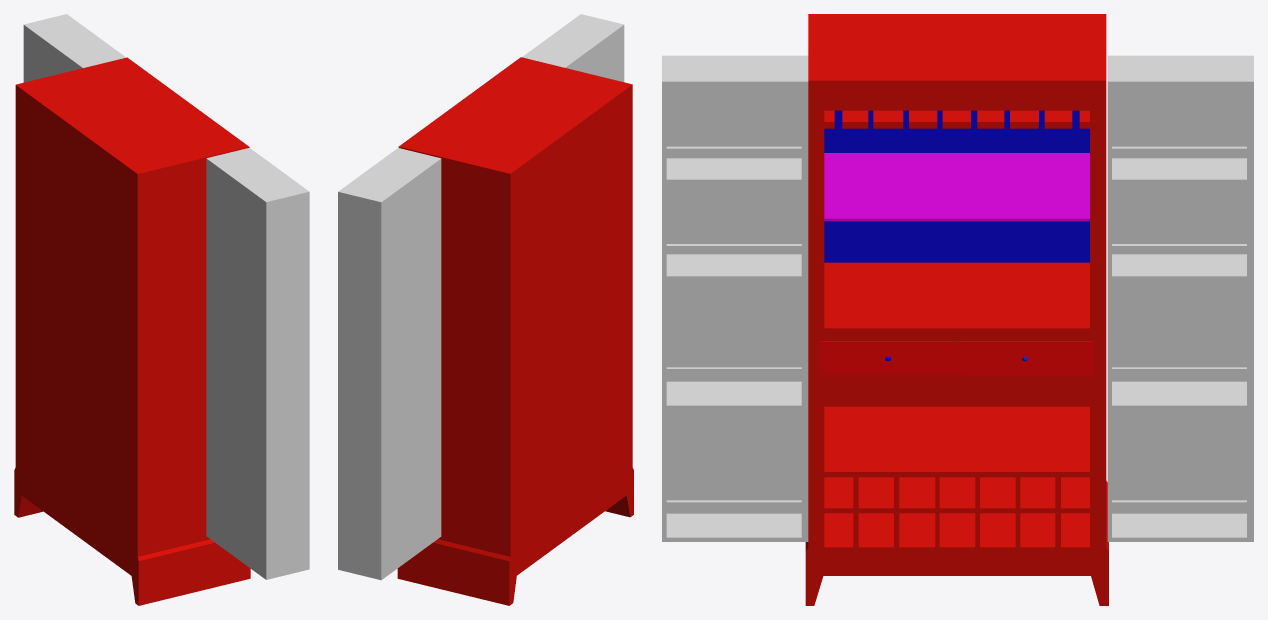
File: estante de livros.fbx
3 views of the same model, side by side, from view 1: azimuth 30°, elevation 25°; view 2: azimuth 150°, elevation 25°; view 3: azimuth 270°, elevation 25° (orthographic). The views are drawn at different scales.
Visible parts, largest first — view 1: Cube, Cube.003; view 2: Cube, Cube.003; view 3: Cube.003, Cube, Cube.005, Cube.002, Cube.001.
Part boxes in pixels (left/top/right/bottom): Cube: left=14, top=57, right=250, bottom=605; Cube.003: left=23, top=14, right=309, bottom=579; Cube: left=397, top=57, right=633, bottom=605; Cube.003: left=338, top=14, right=624, bottom=580; Cube.003: left=662, top=55, right=1253, bottom=541; Cube: left=805, top=14, right=1108, bottom=605; Cube.005: left=824, top=153, right=1089, bottom=221; Cube.002: left=956, top=341, right=1093, bottom=375; Cube.001: left=820, top=341, right=956, bottom=374.
Size of the model in its own units: 210 by 737 by 752.
